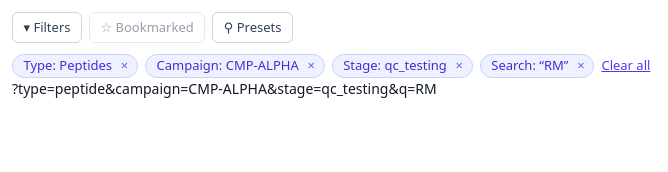
Test: F16-FR-03: Clear all removes every chip
Check: the text "Type: Peptides" is shown, box [24,56,112,74]
Check: the text "Campaign: CMP-ALPHA" is shown, box [156,56,299,74]
Click the button "Clear all": (626, 66) [601,56,650,75]
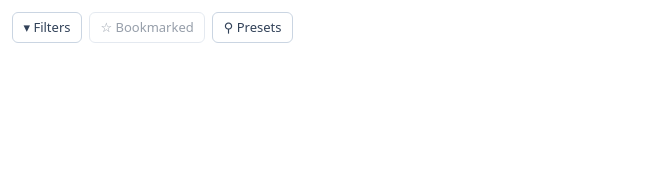
Check: the element with test id "filter-chips" is gone
